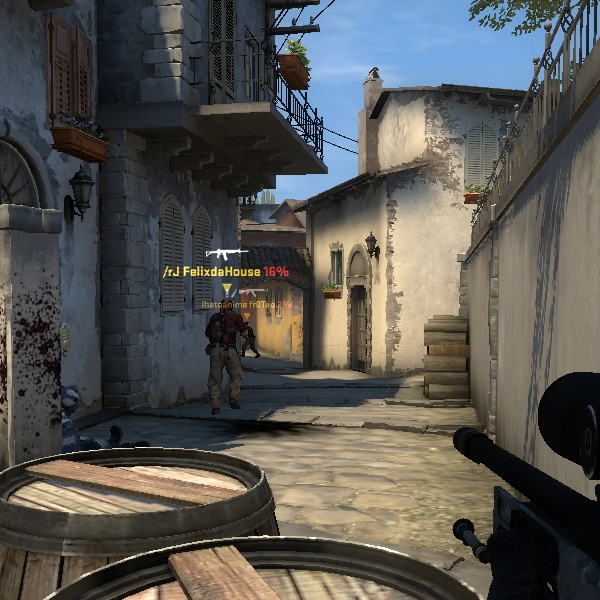t_body: (191, 290, 256, 419), (234, 287, 268, 358)
